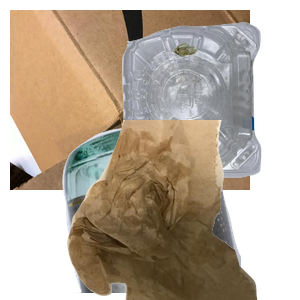cardboard: (10, 10, 250, 190)
glass: (60, 120, 300, 300)
plastic: (119, 20, 300, 190)
trash: (65, 120, 300, 300)
